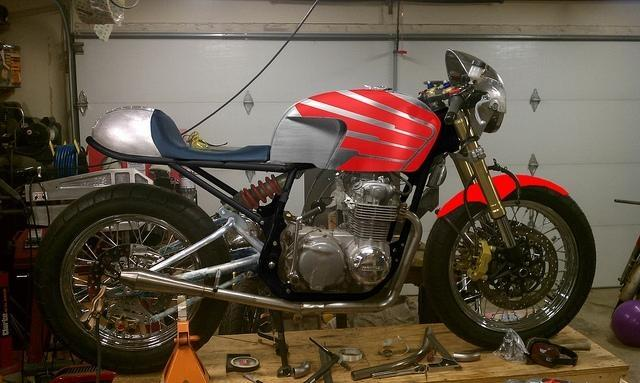motorcycle: (35, 47, 598, 380)
